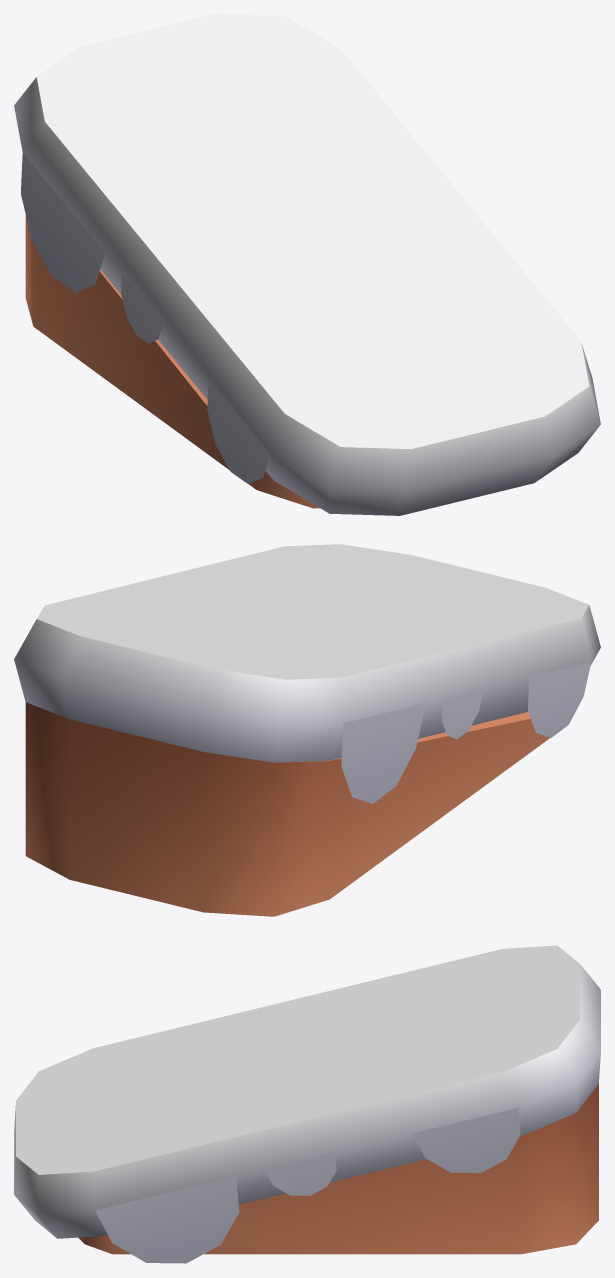
File: block-snow-overhang-large-slope-narrow.glb
3 views of the same model, one above another, from view 1: azimuth 30°, elevation 25°; view 2: azimuth 150°, elevation 25°; view 3: azimuth 270°, elevation 25° (orthographic). The views are drawn at different scales.
Parts seen in each view (by area): view 1: block-snow-overhang-large-slope-narrow; view 2: block-snow-overhang-large-slope-narrow; view 3: block-snow-overhang-large-slope-narrow.
Part boxes in pixels (x1,y1,x2,y2): block-snow-overhang-large-slope-narrow: (14, 14, 600, 515); block-snow-overhang-large-slope-narrow: (14, 544, 600, 916); block-snow-overhang-large-slope-narrow: (14, 945, 600, 1263).
Size of the model in its own units: 1.08 by 0.7751 by 2.01.
Materials: 1 (1 with a texture image).
